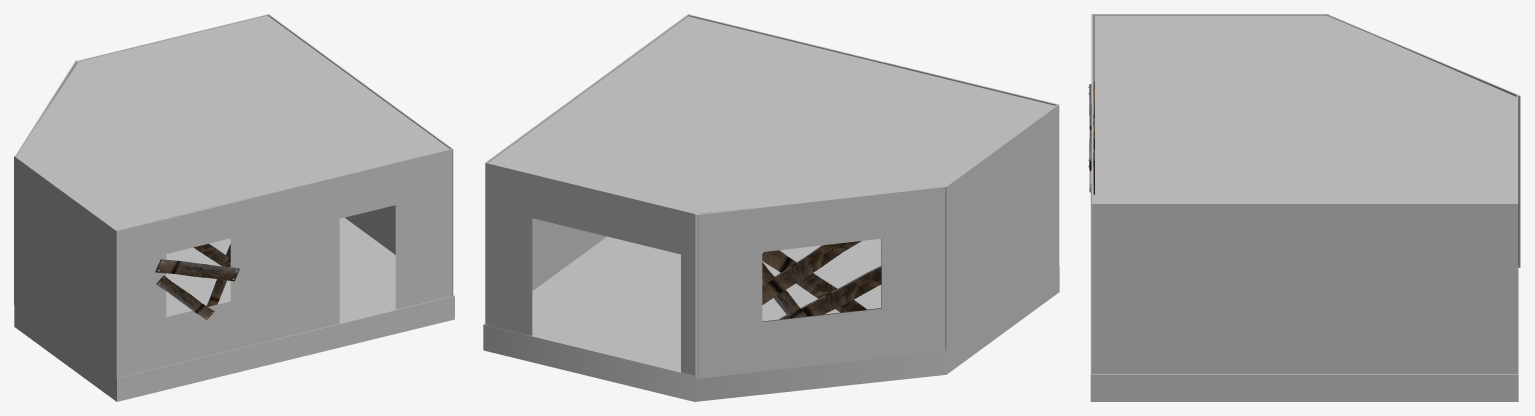
Rendered from Building1.fbx.
3 views of the same model, side by side, from view 1: azimuth 30°, elevation 25°; view 2: azimuth 150°, elevation 25°; view 3: azimuth 270°, elevation 25° (orthographic). The views are drawn at different scales.
Parts seen in each view (by area): view 1: pCylinder15; view 2: pCylinder15; view 3: pCylinder15.
Part boxes in pixels (x1=…): pCylinder15: x1=14, y1=14, x2=454, y2=401; pCylinder15: x1=483, y1=14, x2=1059, y2=401; pCylinder15: x1=1088, y1=14, x2=1520, y2=401.
Size of the model in its own units: 20.73 by 10 by 19.86.
